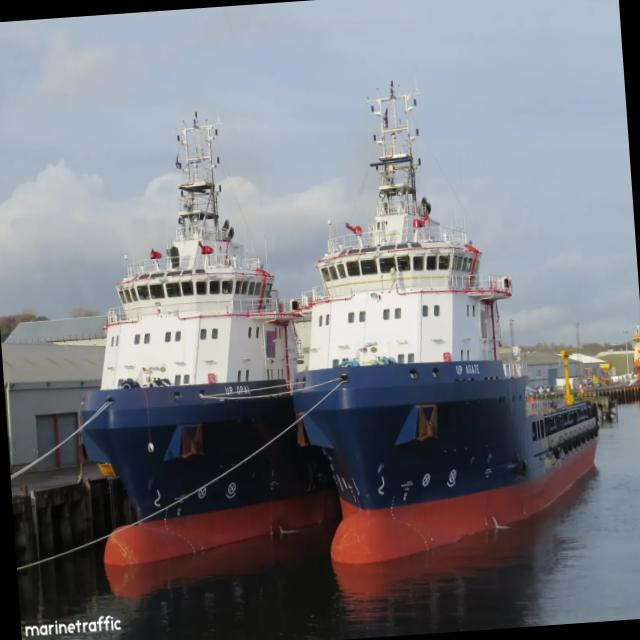Offshore: (294, 84, 598, 563), (80, 114, 336, 565)
